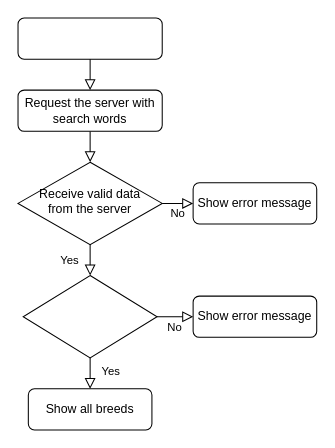
The diagram is 335 pixels wide and 448 high, and some of its shapes have lost their labels. Here are the shapes that lost their labels. From the top down, the box of each, then its label:
(17, 17, 162, 59): User types some words to search cat's breed
(22, 274, 157, 358): Data is not empty
